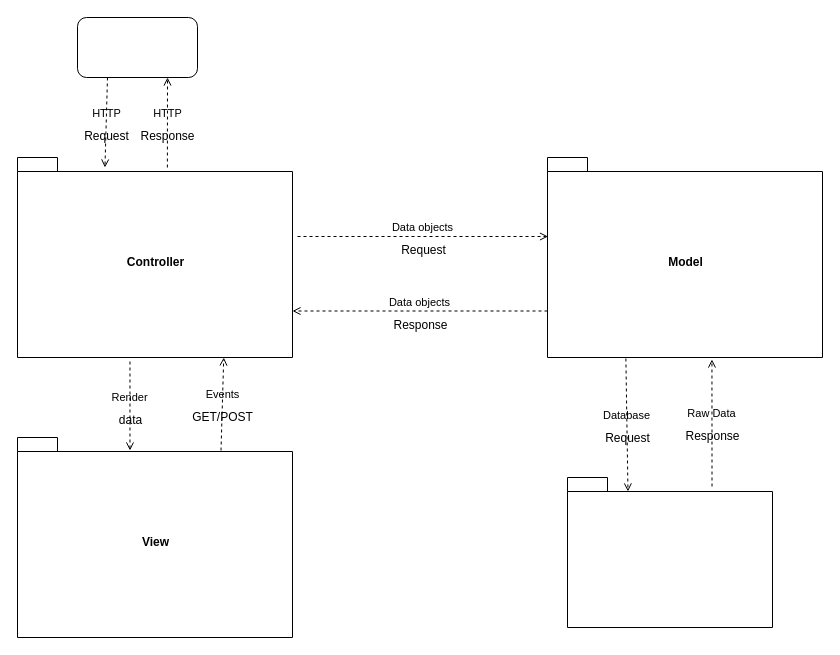
Image size: 840x655. Some labels were removed from this diagram. Each missing label, with the box of its shape:
Banco de dados: (566, 476, 772, 628)
Web Browser: (76, 16, 198, 78)
